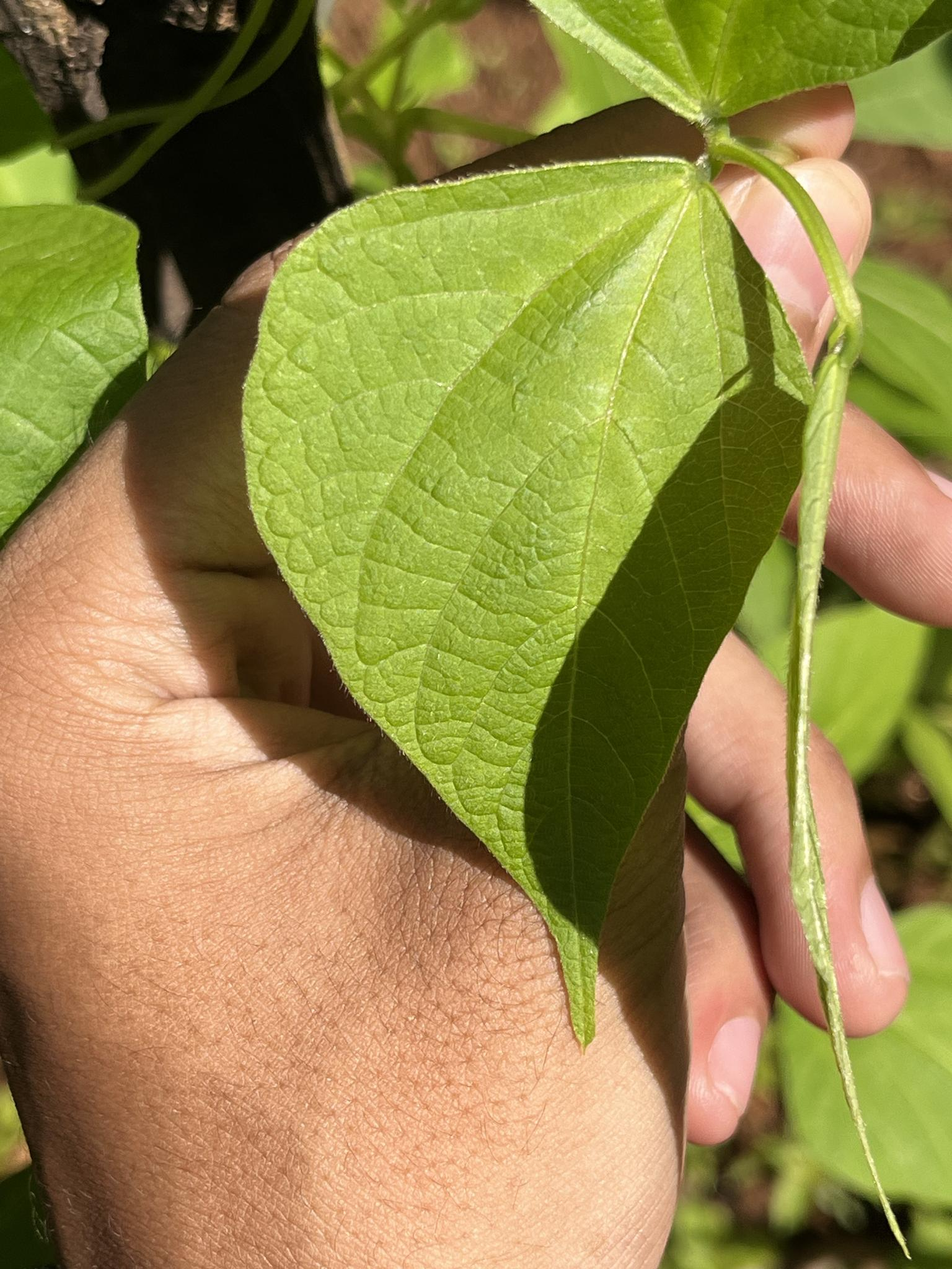sehat: (247, 161, 820, 1046)
